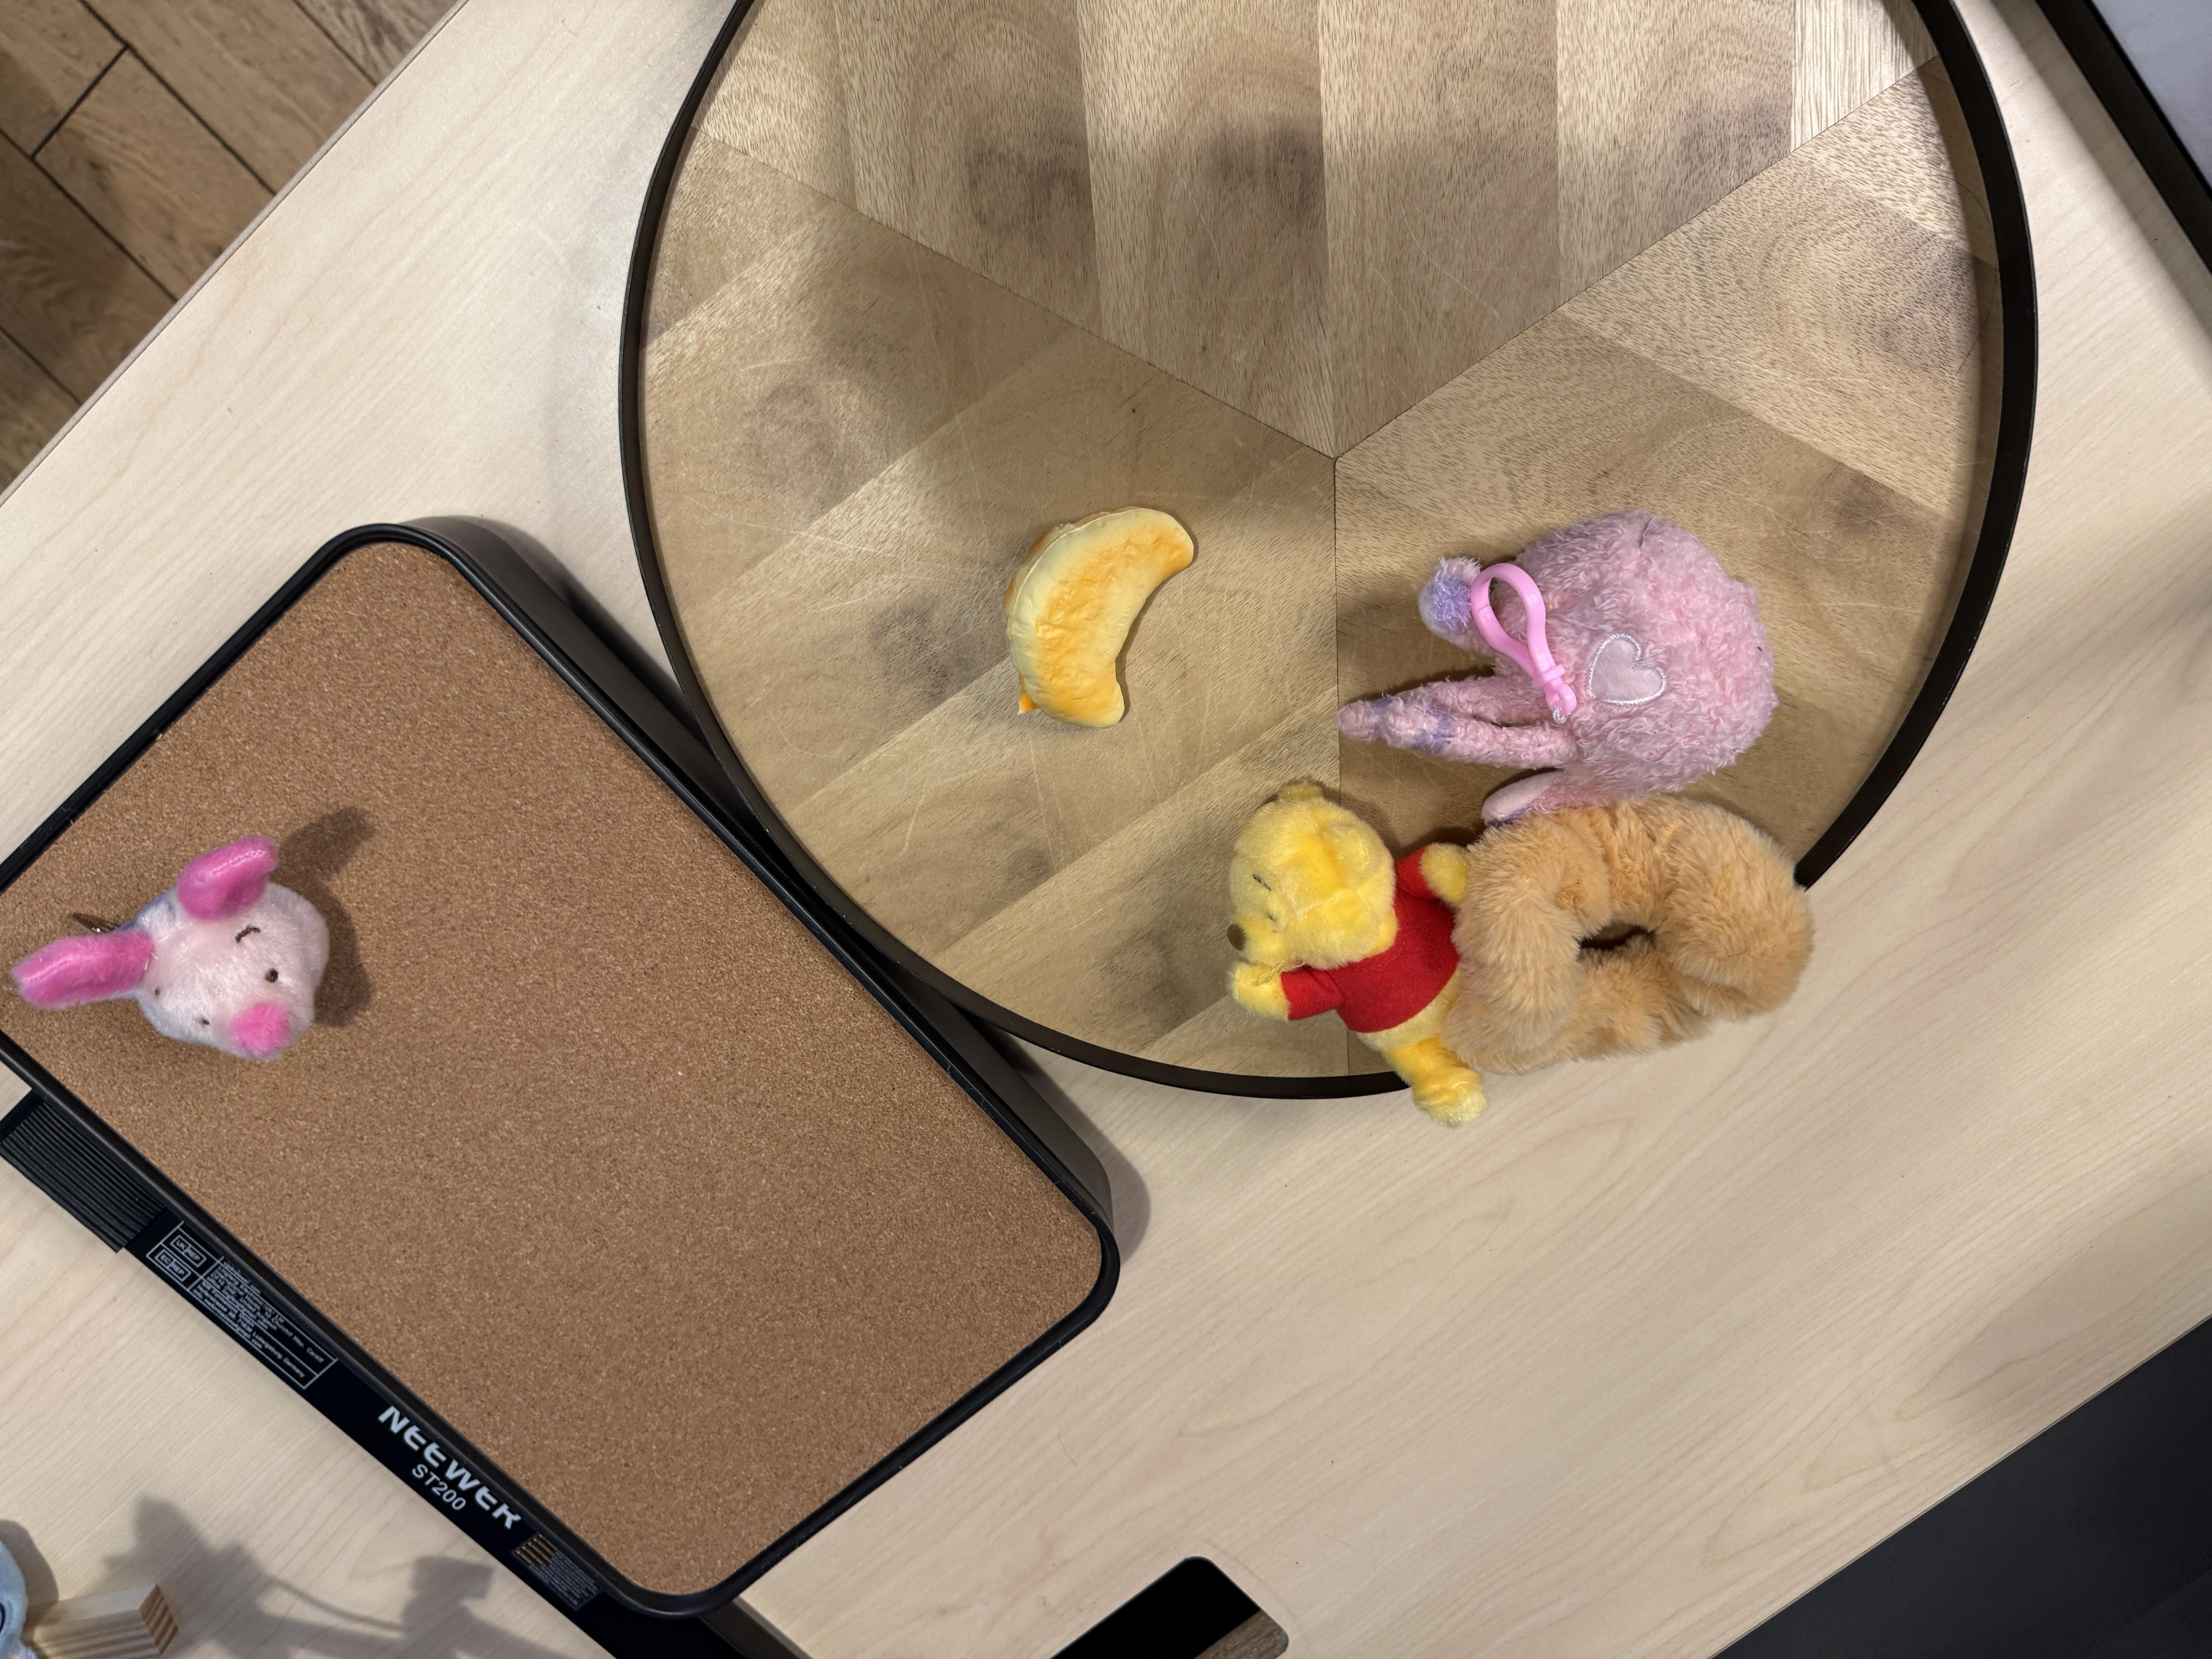bread: (1000, 504, 1198, 741)
doll: (1212, 786, 1824, 1117), (1345, 511, 1787, 802), (23, 829, 340, 1065)
